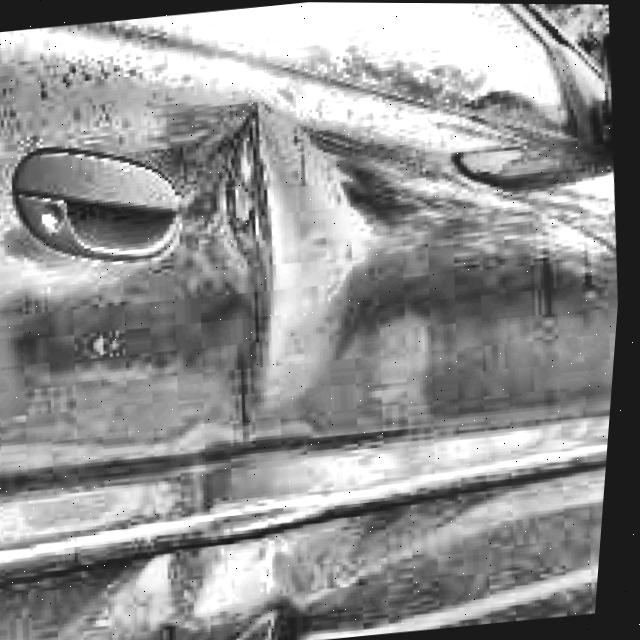door_dent: (166, 90, 398, 371)
